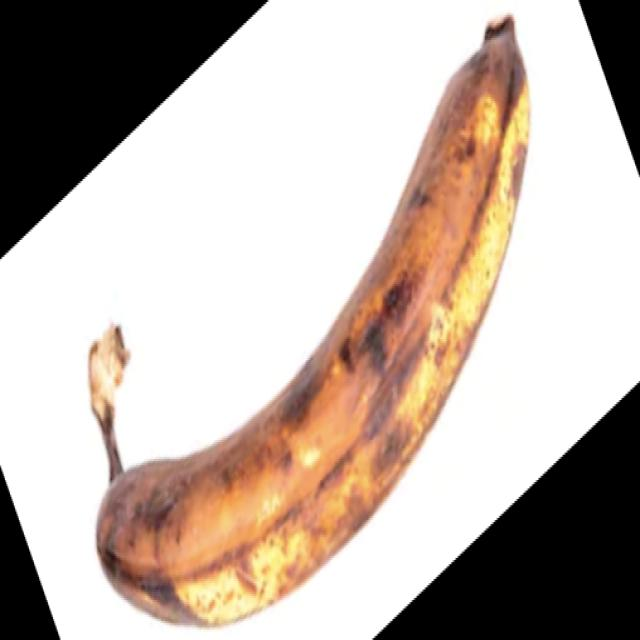overripe: (93, 9, 534, 630)
